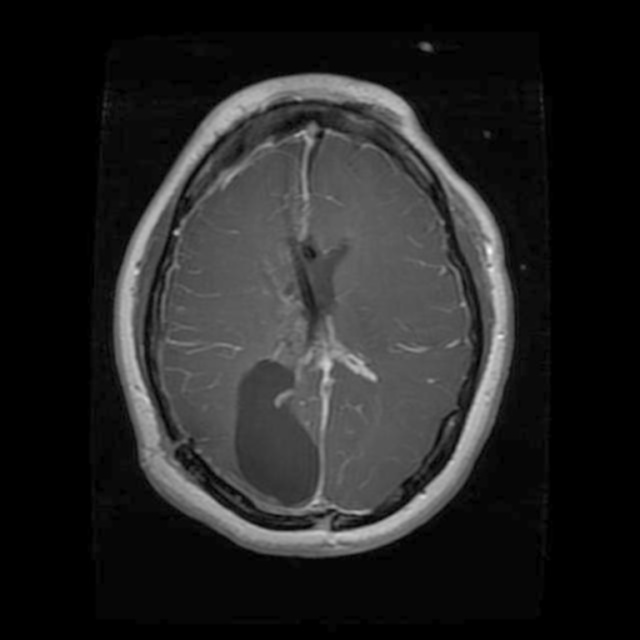pituitary tumor: (292, 328, 338, 412)
